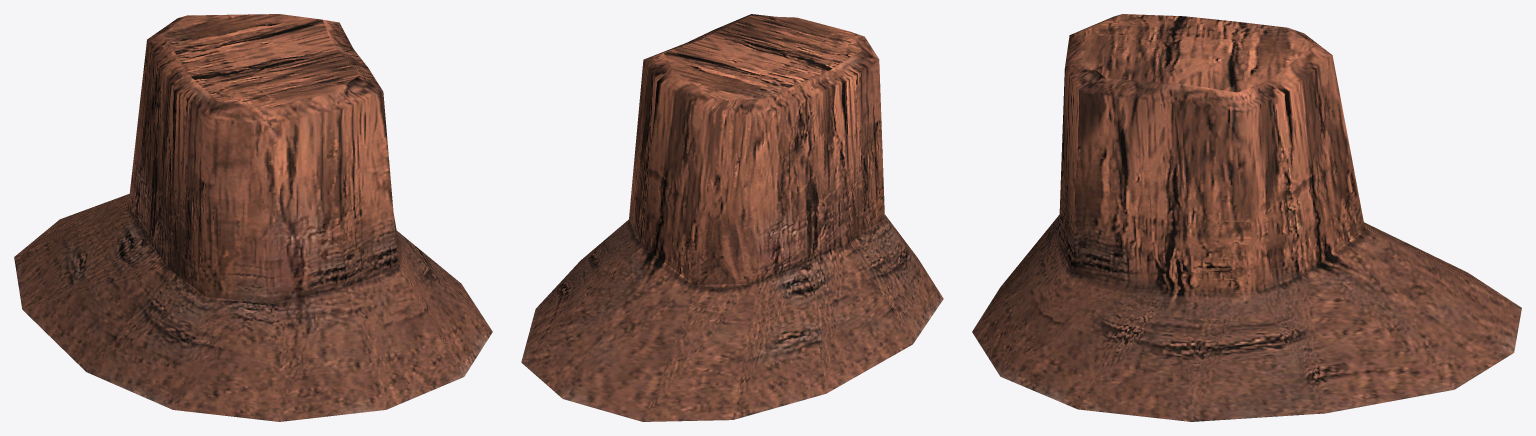
Rendered from object_63.001_lev2.glb.
The picture shows the model from 3 angles, left to right: view 1: azimuth 30°, elevation 25°; view 2: azimuth 150°, elevation 25°; view 3: azimuth 270°, elevation 25°; orthographic projection. The views are drawn at different scales.
Visible parts, largest first — view 1: object_63.001_lev2; view 2: object_63.001_lev2; view 3: object_63.001_lev2.
Part boxes in pixels (x1,y1,x2,y2): object_63.001_lev2: (14, 14, 492, 421); object_63.001_lev2: (521, 14, 943, 421); object_63.001_lev2: (972, 14, 1521, 421).
Bounding box in the file's own units: 13.03 × 9.22 × 16.8.
Materials: 1 (1 with a texture image).
